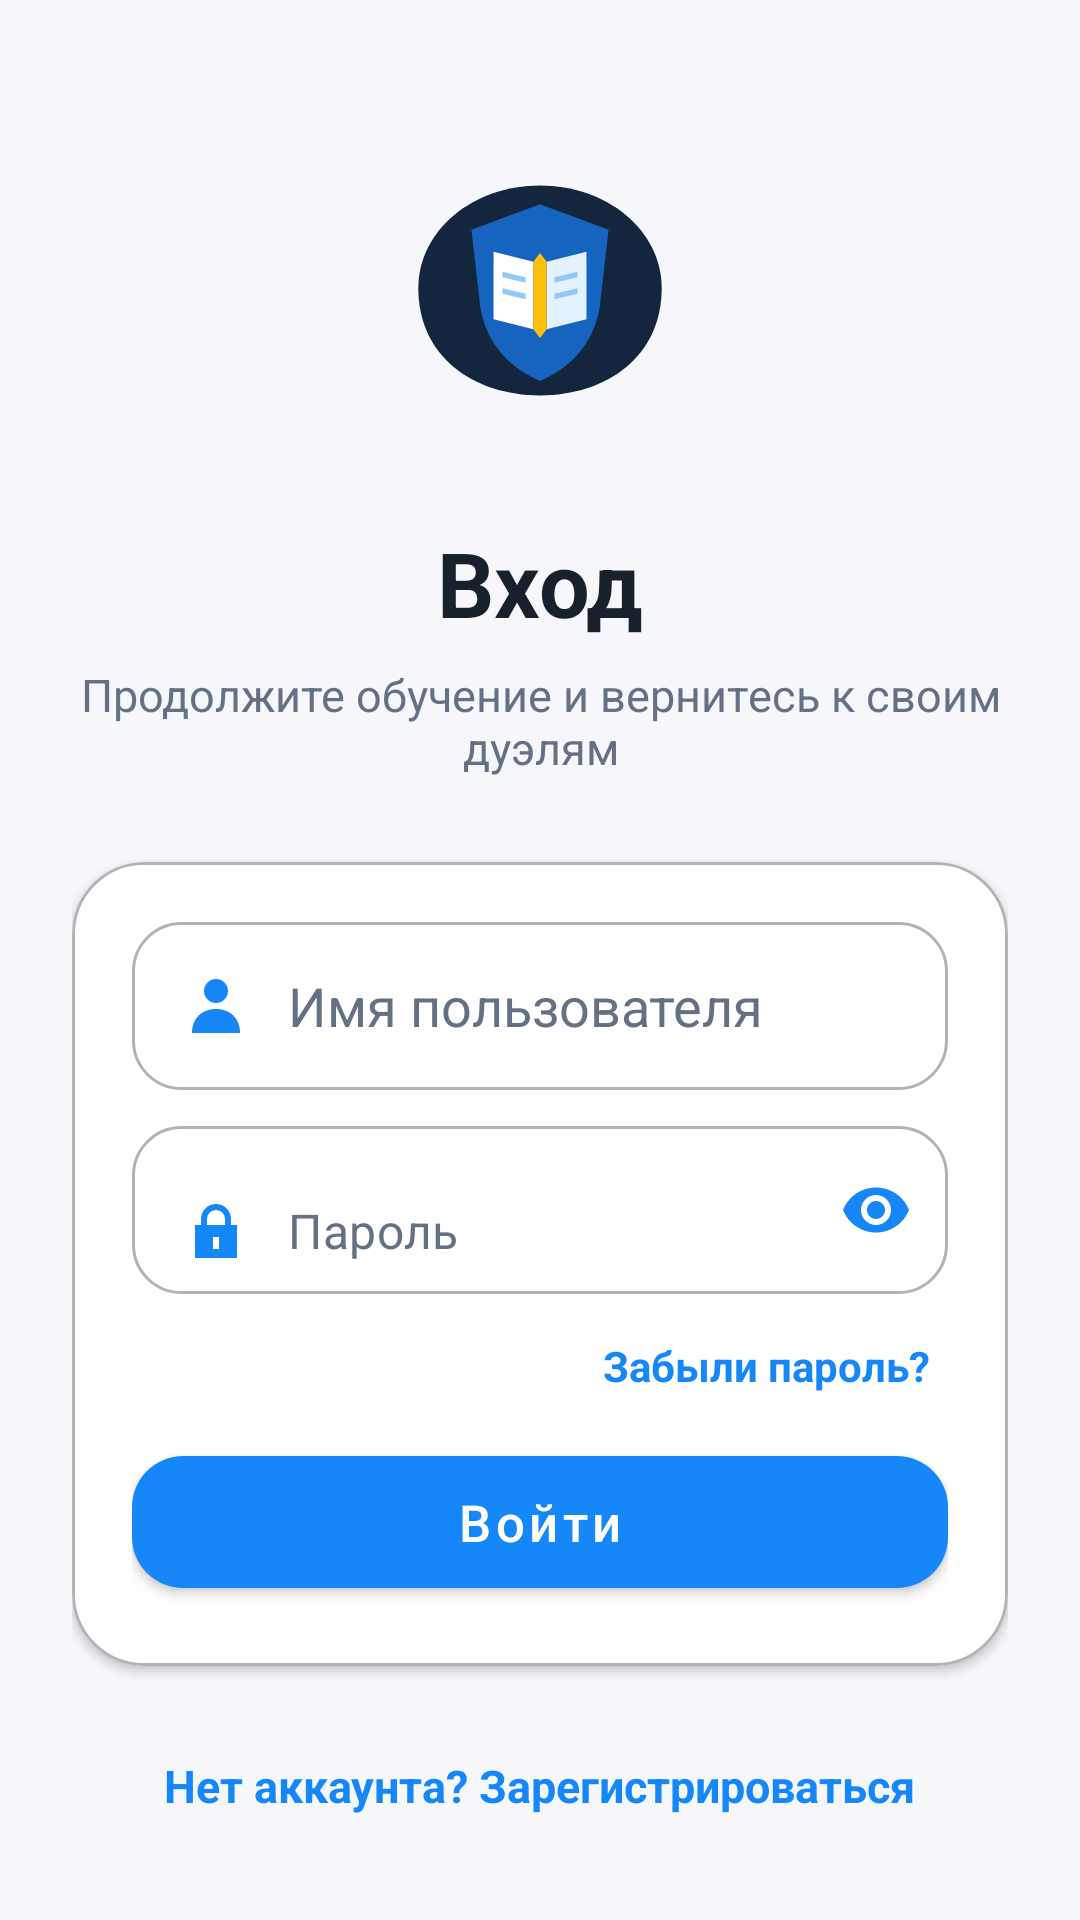

Screen size 1080w x 1920h. Icon name, then its box in pixels as (x1, y1, x2, y2):
auth: (418, 185, 662, 396)
